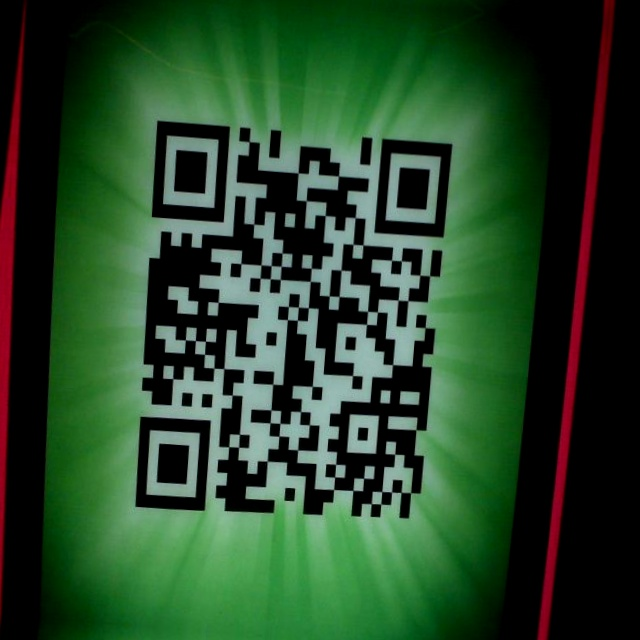qr-code: (127, 121, 452, 529)
